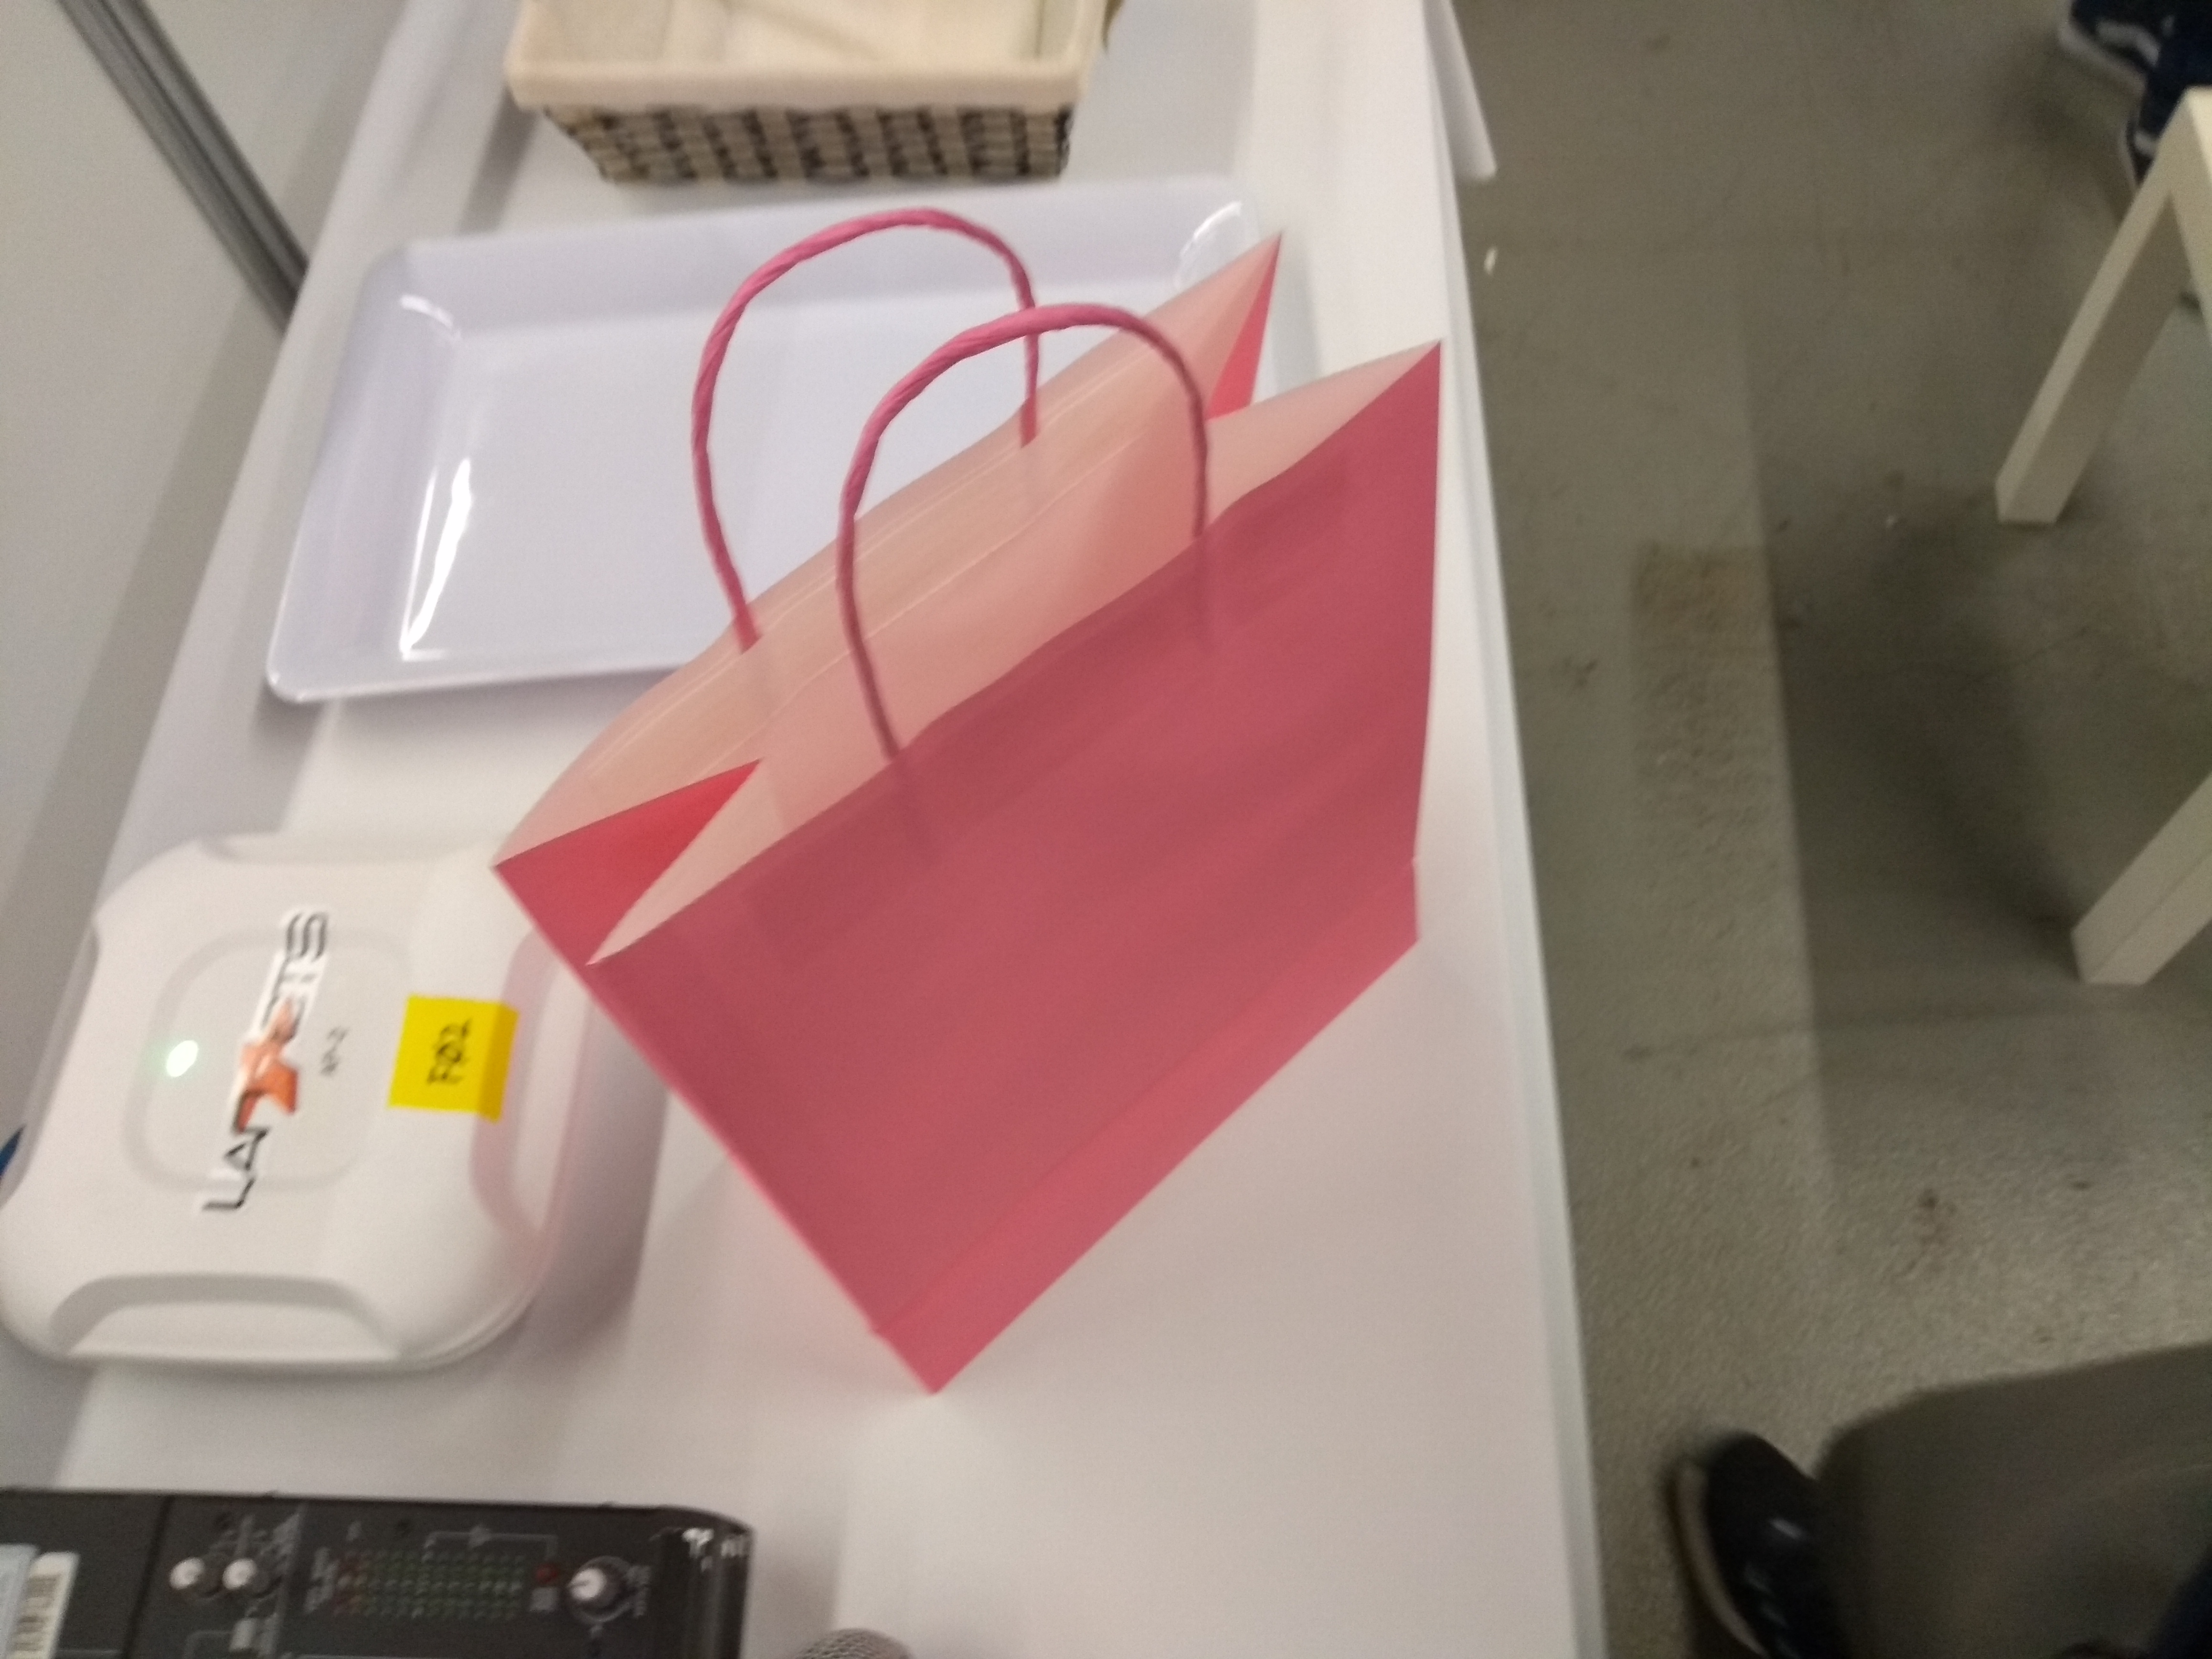basket: (509, 0, 1092, 200)
help_me_carry_opl: (500, 228, 1463, 1457)
tray: (251, 188, 1310, 721)
